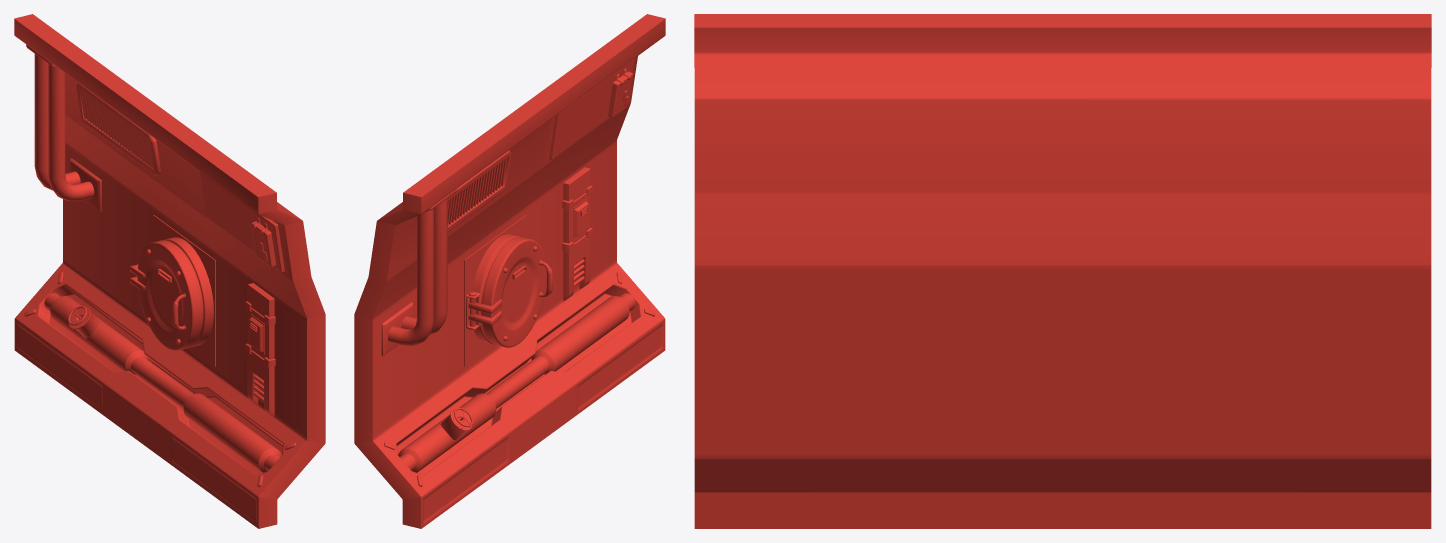
File: Wall03.fbx
The picture shows the model from 3 angles, left to right: view 1: azimuth 30°, elevation 25°; view 2: azimuth 150°, elevation 25°; view 3: azimuth 270°, elevation 25°; orthographic projection. The views are drawn at different scales.
Visible parts, largest first — view 1: SM_Wall03; view 2: SM_Wall03; view 3: SM_Wall03.
Boxes of the visible parts, x1=… form: SM_Wall03: x1=14, y1=14, x2=325, y2=528; SM_Wall03: x1=354, y1=14, x2=665, y2=528; SM_Wall03: x1=694, y1=14, x2=1431, y2=528.
Size of the model in its own units: 63.75 by 300 by 400.
